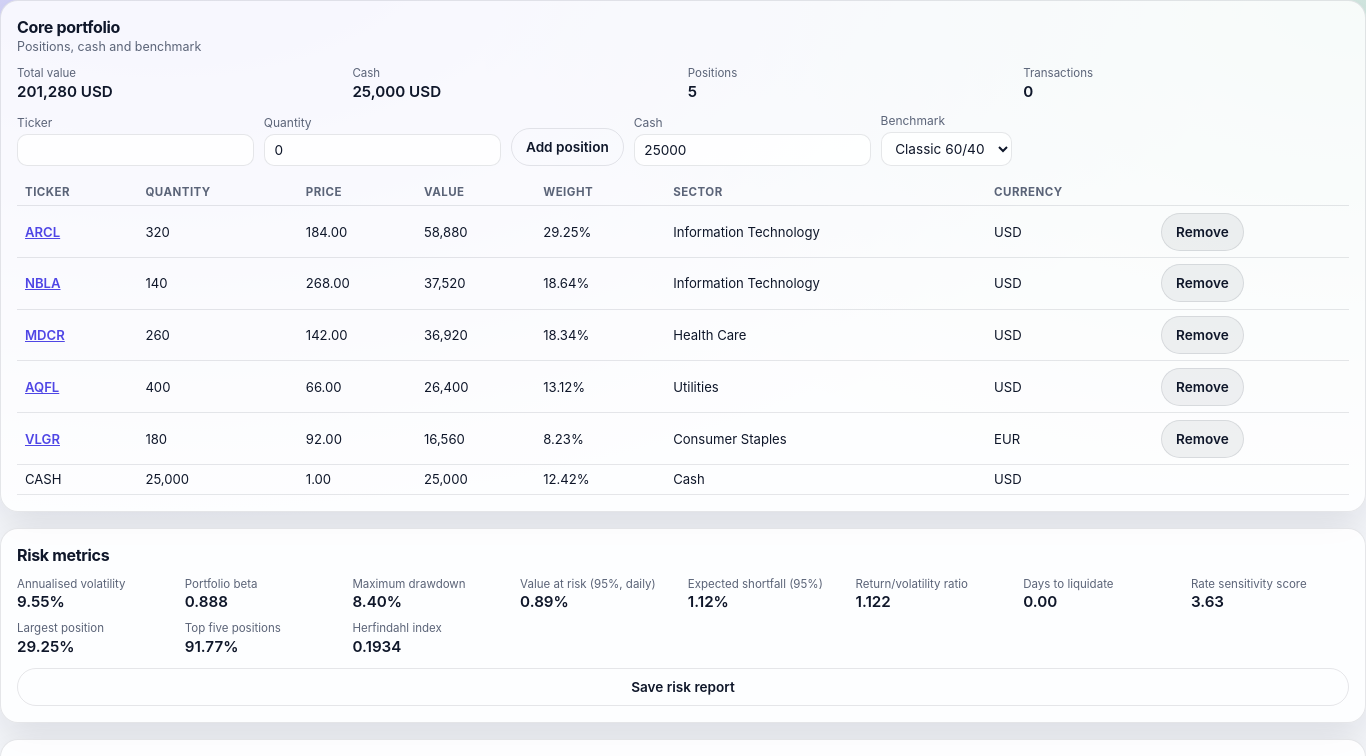
Test: PortfolioView › rejects an unusable position entry
Click the button "Add position".
click(567, 147)  # box [511, 128, 624, 166]
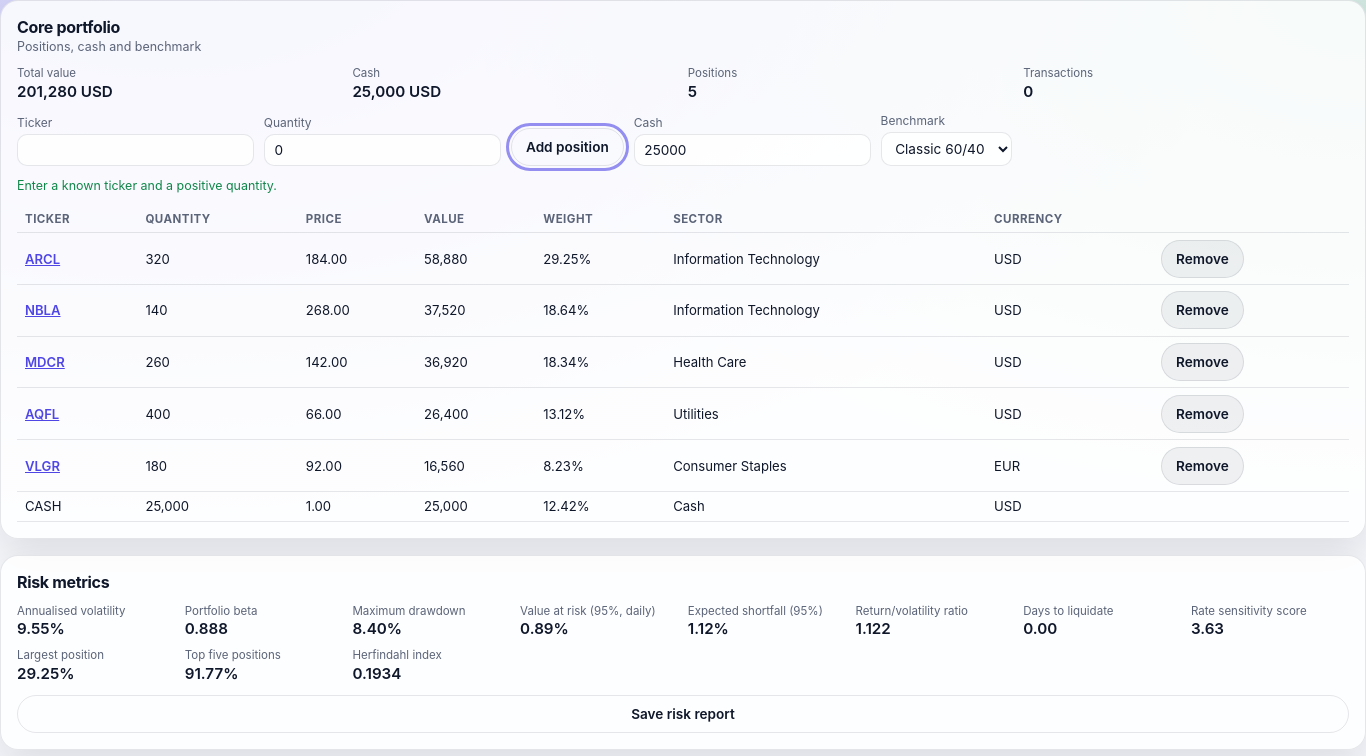
expect the message reads "Enter a known ticker and a positive quantity.": met, box [17, 178, 277, 193]
